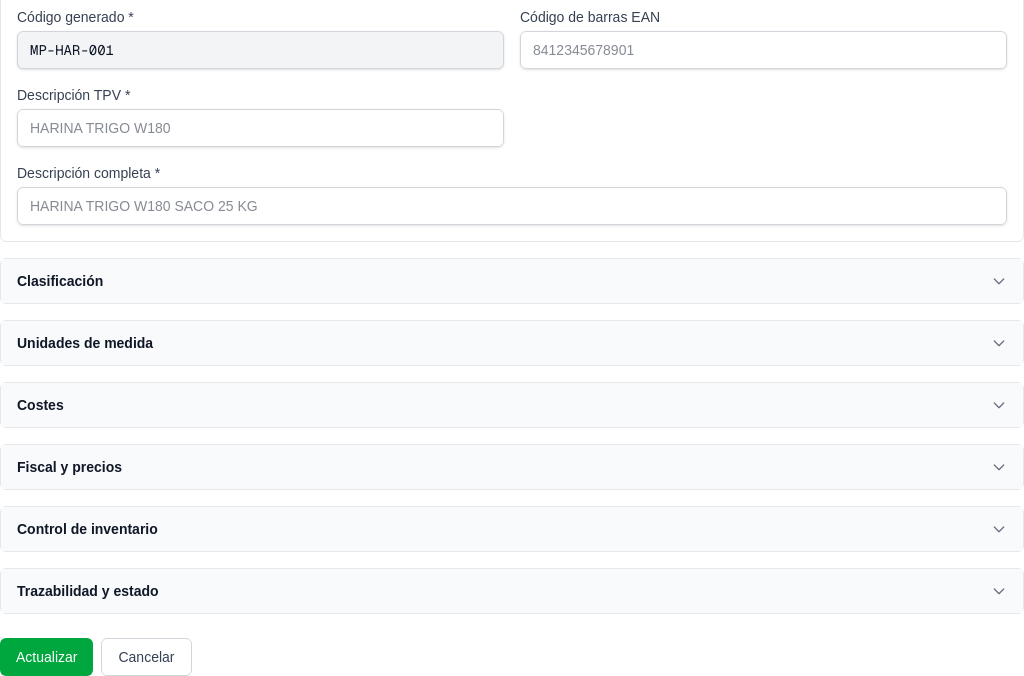
Test case: ProductForm pricing calculations › updates calculated values as pricing inputs change
Click the button "Costes" at (40, 405), box top-left (1, 383), bottom-right (1023, 427)
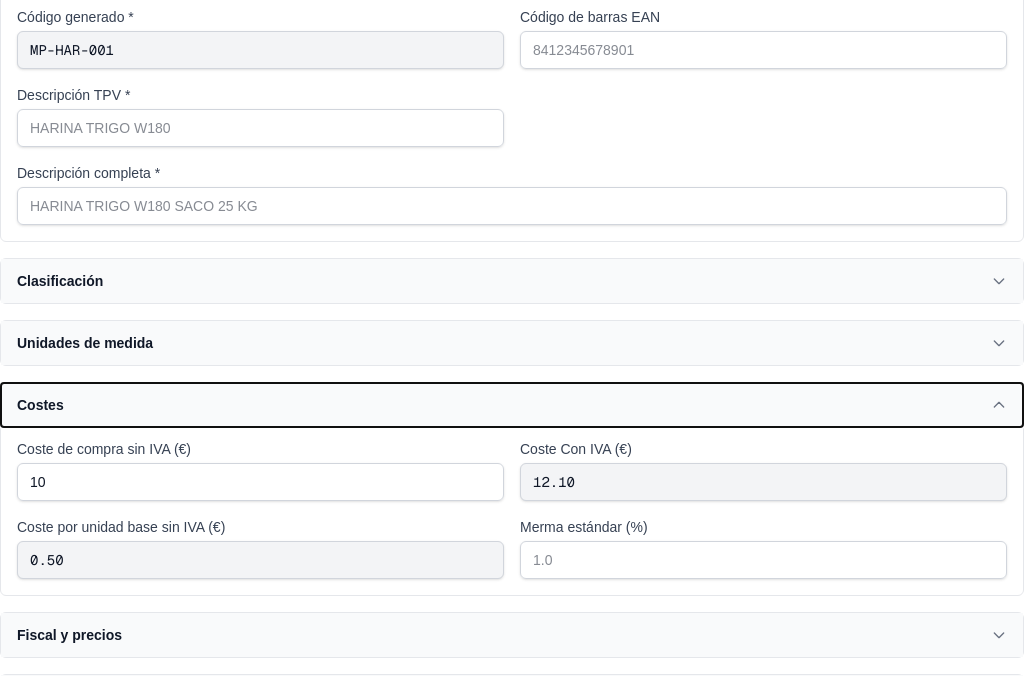
Click the button "Fiscal y precios" at (70, 635), box top-left (1, 613), bottom-right (1023, 657)
(page scrolled)
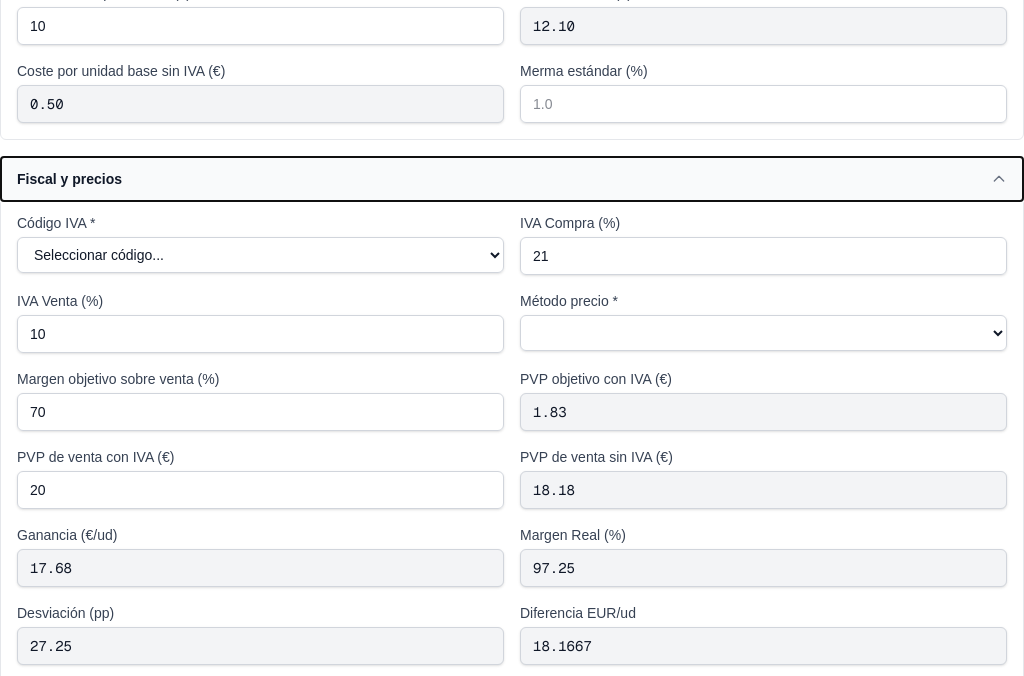
Now the field showing "12.10" is shown, box top-left (520, 7), bottom-right (1007, 45)
Now the field labelled "Coste por unidad base sin IVA (€)" holds "0.50", box top-left (17, 85), bottom-right (504, 123)
Now the field showing "18.18" is shown, box top-left (520, 471), bottom-right (1007, 509)
Type "20" into the number field named "salesVatPercentage" below "IVA Venta (%)" at (260, 334), box top-left (17, 315), bottom-right (504, 353)
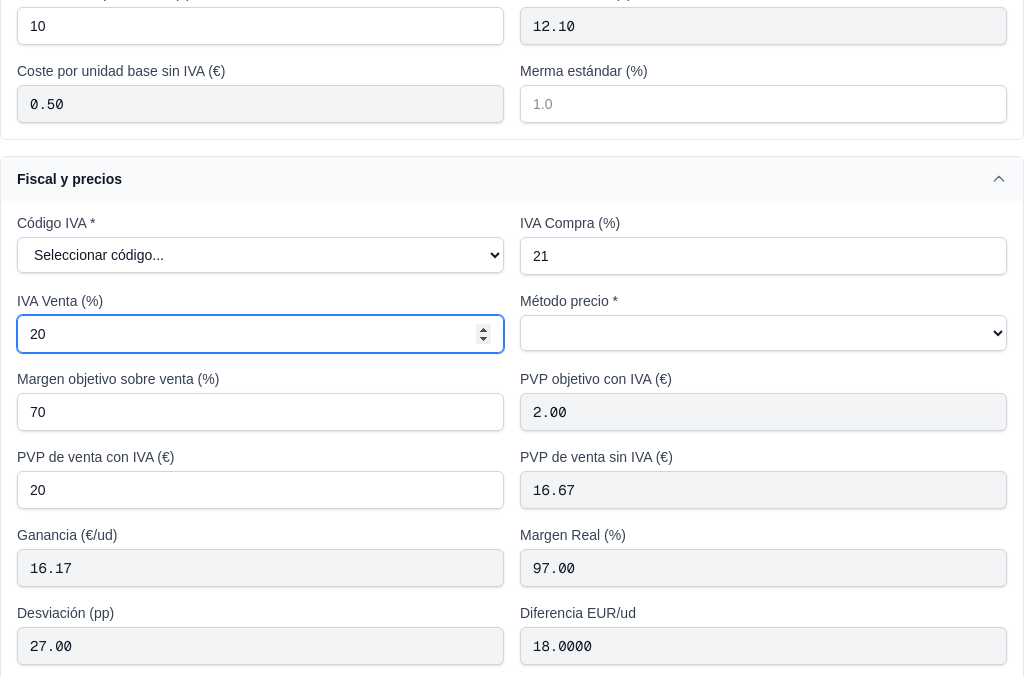
Now the field showing "16.67" is shown, box top-left (520, 471), bottom-right (1007, 509)
Now the field showing "16.17" is shown, box top-left (17, 549), bottom-right (504, 587)
Now the field showing "97.00" is shown, box top-left (520, 549), bottom-right (1007, 587)
